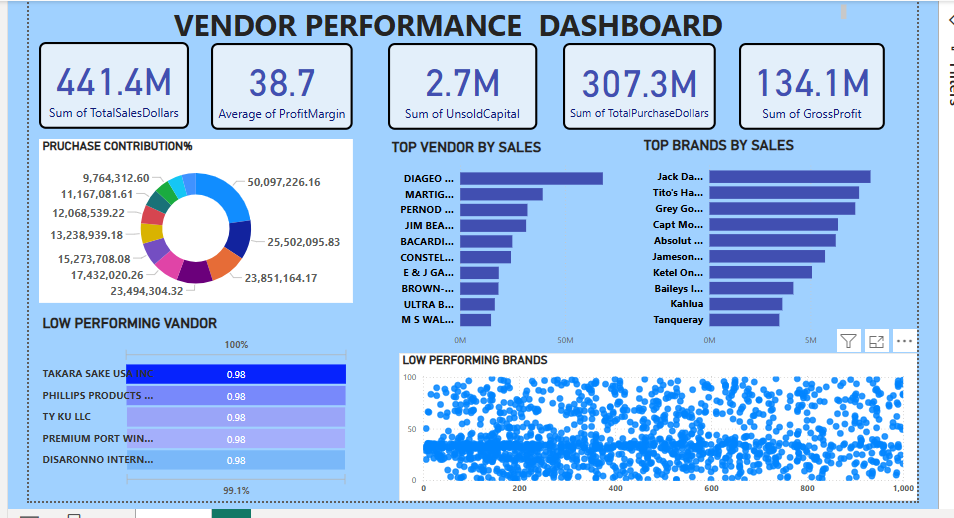

The page's visual inventory and layout, read from the dashboard file:
{"tool":"powerbi","page":{"name":"Page 1","canvas":[1280,720],"ordinal":0},"visuals":[{"type":"card","fields":{"Values":["Sum(vendor_performance_cleaned.TotalSalesDollars)"]},"box":[14.4,59,216,125.3],"z":0},{"type":"card","fields":{"Values":["Sum(vendor_performance_cleaned.TotalPurchaseDollars)"]},"box":[769,60.5,220.3,125.3],"z":1000},{"type":"card","fields":{"Values":["Sum(vendor_performance_cleaned.GrossProfit)"]},"box":[1022.4,60.5,210.2,125.3],"z":2000},{"type":"card","fields":{"Values":["Avg(vendor_performance_cleaned.ProfitMargin)"]},"box":[262.1,60.5,204.5,125.3],"z":3000},{"type":"card","fields":{"Values":["Sum(vendor_performance_cleaned.UnsoldCapital)"]},"box":[517,60.5,214.6,125.3],"z":4000},{"type":"donutChart","title":"PRUCHASE CONTRIBUTION%","fields":{"Y":["Sum(PurchaseContribution.PurchaseContribution%)"],"Category":["PurchaseContribution.VendorName"],"Series":["PurchaseContribution.TotalPurchaseDollars"]},"box":[14.4,198.7,452.2,236.2],"z":5000},{"type":"barChart","title":"TOP VENDOR BY SALES","fields":{"Y":["Sum(vendor_performance_cleaned.TotalSalesDollars)"],"Category":["vendor_performance_cleaned.VendorName"]},"box":[517,198.7,362.9,308.2],"z":5001},{"type":"barChart","title":"TOP BRANDS BY SALES","fields":{"Category":["vendor_performance_cleaned.Description"],"Y":["Sum(vendor_performance_cleaned.TotalSalesDollars)"]},"box":[879.8,195.8,347,311],"z":5002},{"type":"funnel","title":"LOW PERFORMING VANDOR","fields":{"Category":["LowTurnoverVendor.VendorName"],"Y":["Sum(LowTurnoverVendor.AvgStockTurnOver)"]},"box":[14.4,452.2,452.2,267.8],"z":5003},{"type":"scatterChart","title":"LOW PERFORMING BRANDS","fields":{"Category":["BrandPerformance.Description"],"X":["Avg(BrandPerformance.TotalSales)"],"Y":["Sum(BrandPerformance.AvgProfitMarfin)"]},"box":[532.8,506.9,747.4,213.1],"z":5004},{"type":"textbox","box":[33.1,0,1149.1,59],"z":5005}]}

Visuals, with their boxes on the page's 1280x720 design canvas (x1, y1, x2, y2). These are canvas units, not pixel positions in the 954x518 screenshot, which may show the page scaled, cropped or inside an application window:
card - Sum(vendor_performance_cleaned.TotalSalesDollars): x1=14, y1=59, x2=230, y2=184
card - Sum(vendor_performance_cleaned.TotalPurchaseDollars): x1=769, y1=60, x2=989, y2=186
card - Sum(vendor_performance_cleaned.GrossProfit): x1=1022, y1=60, x2=1233, y2=186
card - Avg(vendor_performance_cleaned.ProfitMargin): x1=262, y1=60, x2=467, y2=186
card - Sum(vendor_performance_cleaned.UnsoldCapital): x1=517, y1=60, x2=732, y2=186
"PRUCHASE CONTRIBUTION%" donutChart: x1=14, y1=199, x2=467, y2=435
"TOP VENDOR BY SALES" barChart: x1=517, y1=199, x2=880, y2=507
"TOP BRANDS BY SALES" barChart: x1=880, y1=196, x2=1227, y2=507
"LOW PERFORMING VANDOR" funnel: x1=14, y1=452, x2=467, y2=720
"LOW PERFORMING BRANDS" scatterChart: x1=533, y1=507, x2=1280, y2=720
textbox: x1=33, y1=0, x2=1182, y2=59
